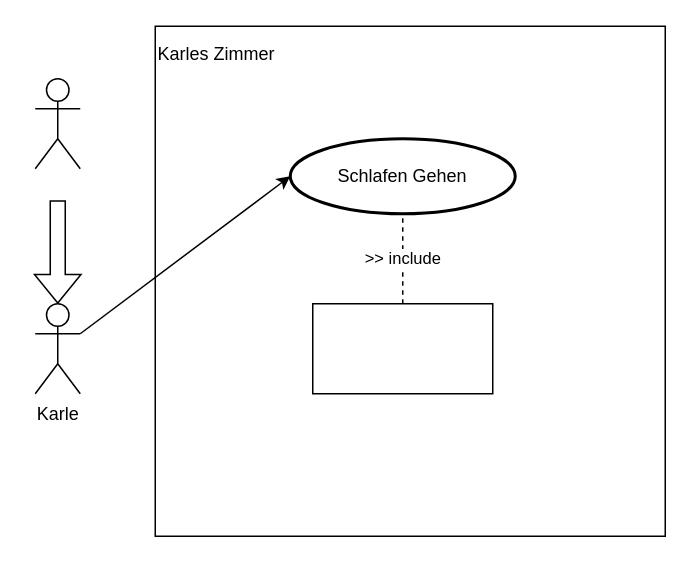
Image size: 692x563. Some labels were removed from this diagram. The shapes that lost their labels are listed below. From the top down, each one's centre as x and y in pixels, then its label:
At (57,123): "Mensch".
At (402,348): "wait 12h then repeat".
